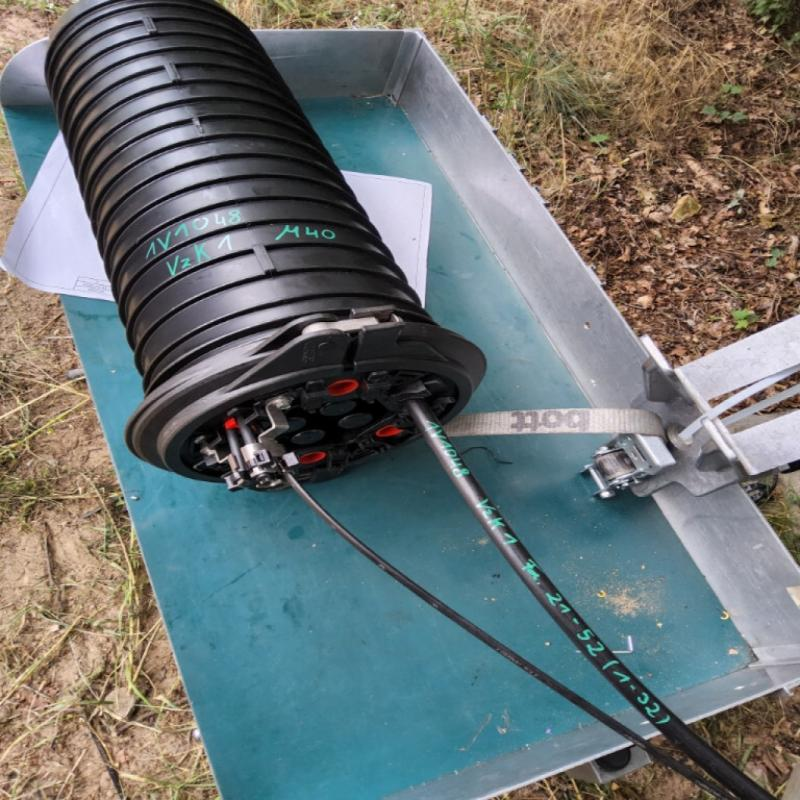NT-Muffen: (36, 0, 486, 490)
